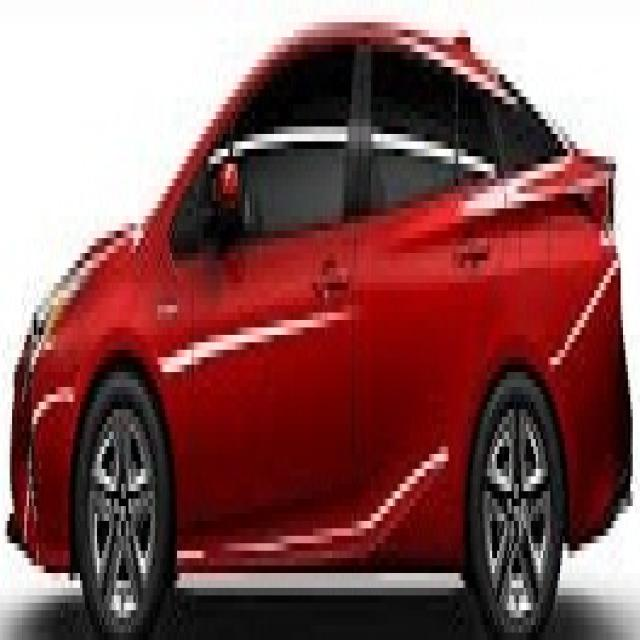red: (11, 35, 622, 601)
